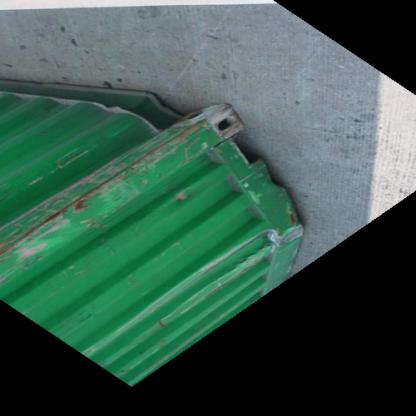Damage: (2, 152, 158, 254), (184, 222, 298, 302), (169, 186, 199, 208)
